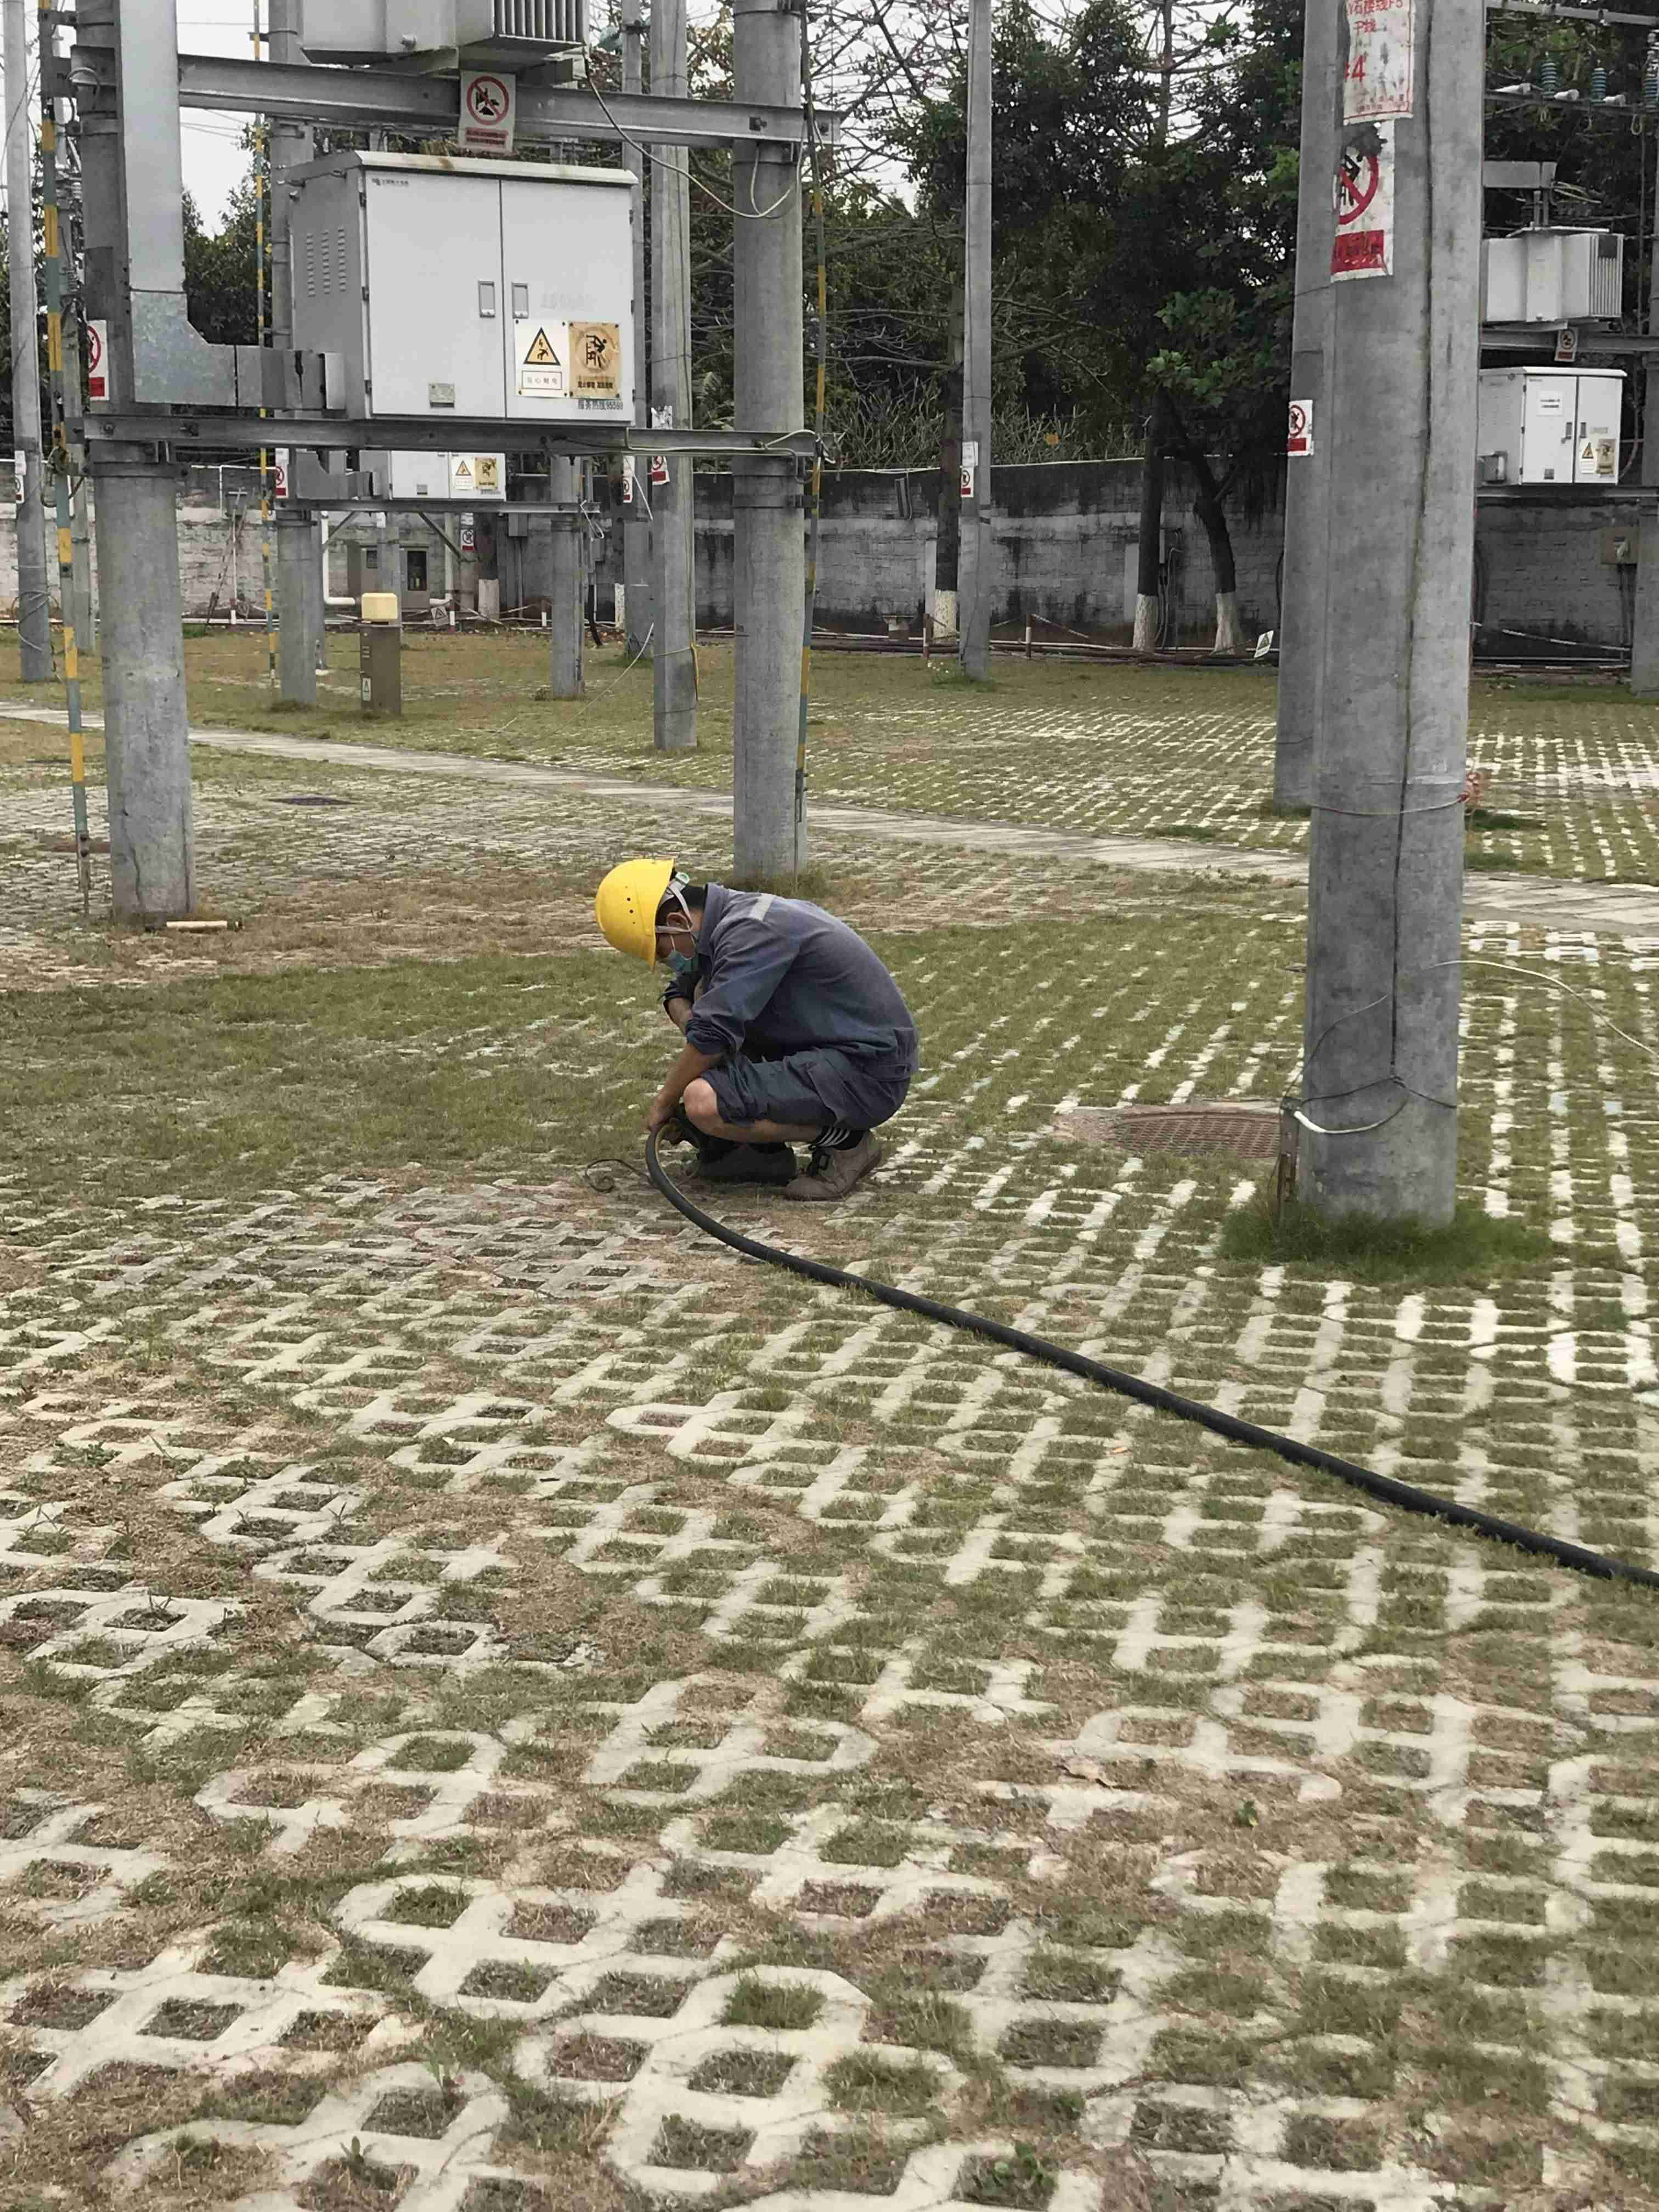downsuit: (706, 1054, 915, 1132)
upsuit: (687, 883, 915, 1050)
wrongbottom: (681, 1073, 826, 1153)
wrongtop: (641, 988, 711, 1150)
